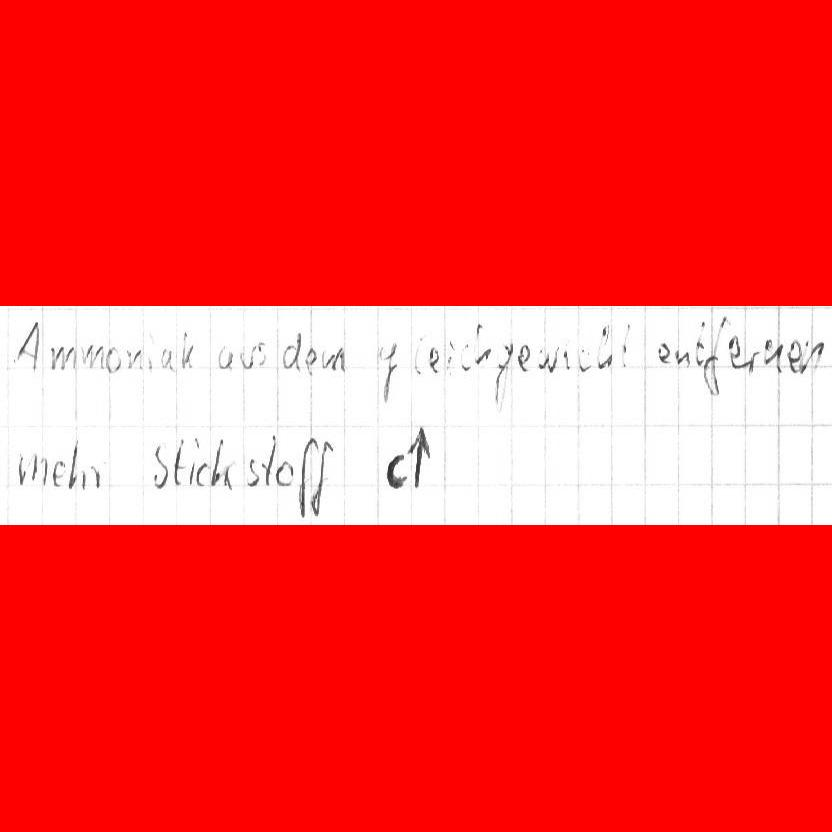Char: (310, 438, 335, 517), (298, 434, 317, 515), (703, 319, 723, 394), (408, 423, 430, 490), (493, 340, 512, 410), (14, 319, 40, 369), (378, 340, 398, 405), (383, 449, 406, 490), (23, 450, 46, 489), (280, 329, 302, 369), (209, 437, 225, 489), (472, 322, 490, 368), (150, 442, 167, 490), (596, 322, 612, 372), (179, 328, 197, 370), (803, 340, 825, 374), (171, 437, 186, 486), (67, 440, 81, 492), (48, 344, 75, 370), (763, 338, 783, 373), (736, 343, 758, 371), (618, 319, 631, 366), (536, 344, 557, 373), (83, 342, 105, 369), (264, 435, 276, 484), (323, 345, 344, 372), (693, 320, 705, 367), (787, 340, 803, 373), (238, 346, 260, 370), (411, 336, 424, 375), (50, 457, 66, 488), (575, 344, 592, 373), (106, 344, 122, 373), (727, 335, 741, 368), (278, 461, 294, 489), (193, 455, 207, 487), (517, 343, 532, 372), (444, 339, 457, 372), (247, 456, 260, 488), (126, 347, 144, 370), (216, 346, 234, 369), (158, 346, 175, 370), (427, 346, 441, 374), (303, 346, 318, 372), (674, 345, 691, 367), (90, 464, 104, 490), (657, 341, 672, 365), (560, 344, 572, 372), (458, 345, 471, 370), (146, 344, 158, 371), (257, 339, 267, 367)
